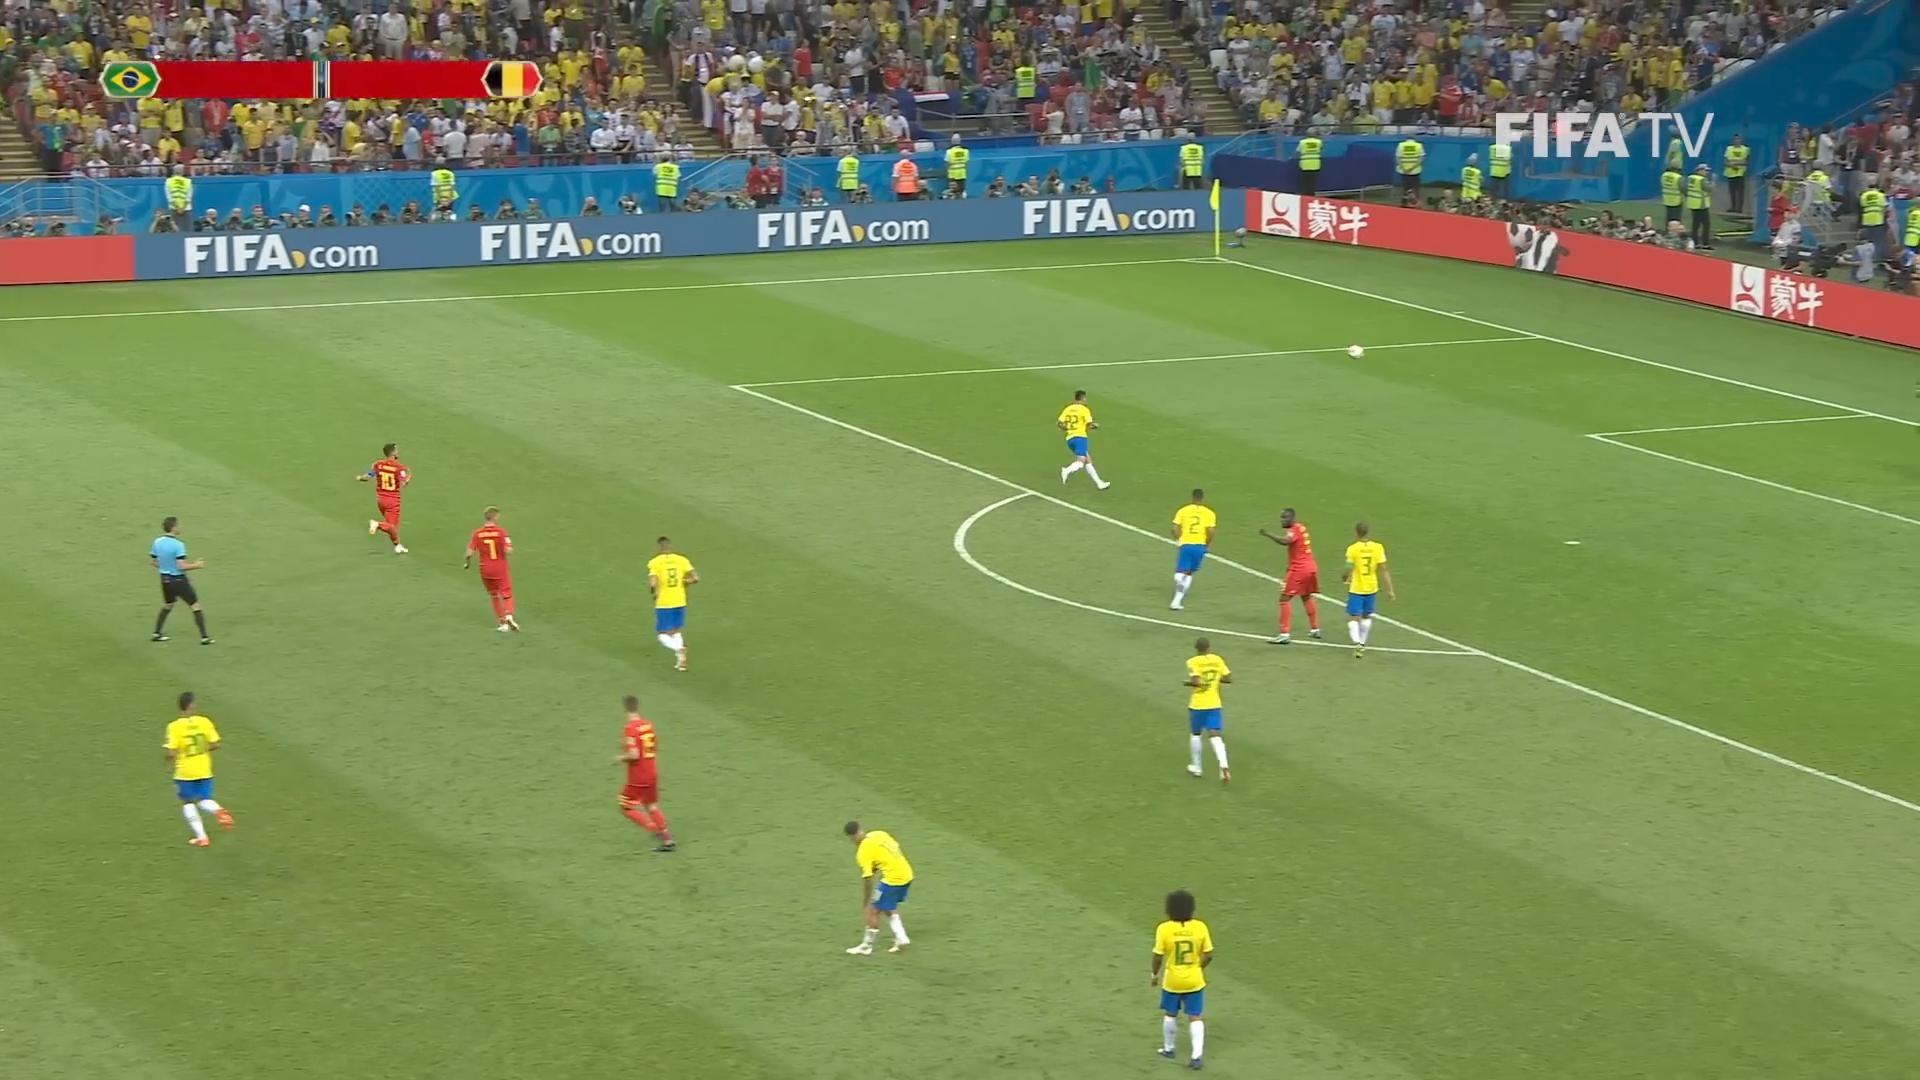ball: (1347, 343, 1365, 360)
player: (1148, 889, 1214, 1069), (161, 690, 234, 846), (610, 693, 677, 852), (841, 819, 913, 956), (1258, 506, 1322, 644), (1339, 519, 1396, 658), (1181, 636, 1233, 784), (645, 534, 699, 672), (462, 505, 520, 633), (355, 442, 411, 554), (1168, 487, 1215, 610), (1055, 388, 1111, 490)
referee: (147, 514, 215, 644)
